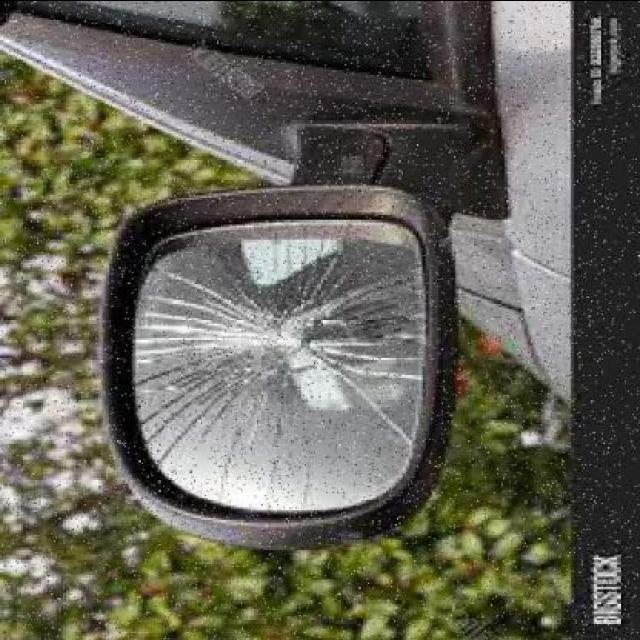Sidemirror-Damage: (93, 166, 450, 533)
